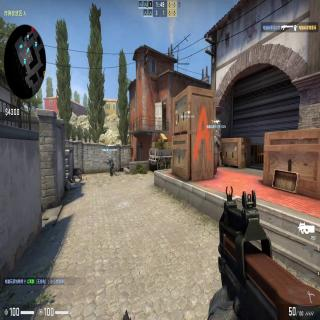CT-Body: (106, 154, 115, 177)
CT-Head: (215, 134, 219, 140), (108, 155, 110, 159)
